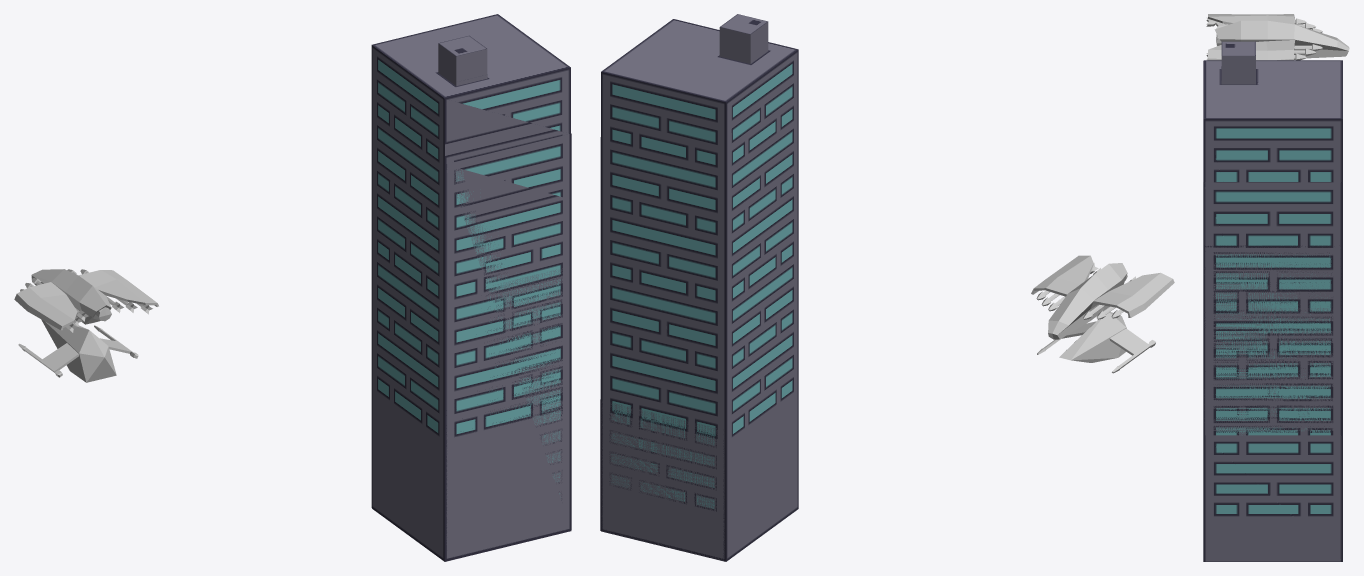
Rendered from models.fbx.
3 views of the same model, side by side, from view 1: azimuth 30°, elevation 25°; view 2: azimuth 150°, elevation 25°; view 3: azimuth 270°, elevation 25° (orthographic). The views are drawn at different scales.
Visible parts, largest first — view 1: RegSkyscraper0, RegSkyscraper1, SlopeSkyscraper1, RegSkyscraper2, FighterJet, SlopeSkyscraper0, AlienShip; view 2: RegSkyscraper0, RegSkyscraper3, FighterJet, AlienShip; view 3: RegSkyscraper1, RegSkyscraper0, RegSkyscraper3, RegSkyscraper2, SlopeSkyscraper1, FighterJet, SlopeSkyscraper0.
Boxes of the visible parts, x1,y1,x2,y2 form: RegSkyscraper0: (371, 14, 570, 560); RegSkyscraper1: (445, 133, 571, 561); SlopeSkyscraper1: (446, 165, 571, 523); RegSkyscraper2: (445, 267, 571, 560); FighterJet: (14, 269, 158, 332); SlopeSkyscraper0: (372, 74, 570, 561); AlienShip: (18, 319, 138, 382); RegSkyscraper0: (601, 14, 798, 561); RegSkyscraper3: (600, 399, 725, 560); FighterJet: (1031, 255, 1174, 339); AlienShip: (1037, 311, 1155, 373); RegSkyscraper1: (1203, 182, 1342, 560); RegSkyscraper0: (1203, 41, 1342, 182); RegSkyscraper3: (1203, 435, 1342, 561); RegSkyscraper2: (1203, 308, 1342, 507); SlopeSkyscraper1: (1203, 245, 1342, 495); FighterJet: (1206, 14, 1349, 60); SlopeSkyscraper0: (1203, 61, 1342, 561).
Size of the model in its own units: 808 by 746 by 210.
